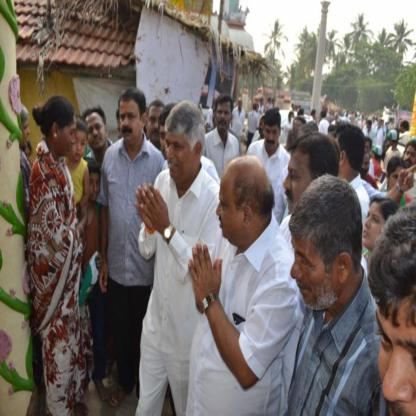face: (376, 299, 416, 416), (291, 234, 339, 306), (284, 155, 314, 211), (217, 178, 244, 237), (165, 131, 197, 178), (363, 204, 387, 244), (160, 125, 184, 164), (120, 106, 142, 140), (59, 118, 77, 157), (148, 111, 167, 142), (330, 142, 346, 178), (86, 121, 106, 148), (390, 168, 408, 197), (71, 131, 87, 161), (86, 174, 103, 202), (119, 122, 135, 150), (17, 118, 31, 148), (217, 105, 232, 130), (265, 127, 279, 153), (404, 145, 416, 170), (20, 149, 32, 170), (360, 157, 370, 176), (294, 124, 304, 142), (361, 144, 370, 159), (260, 120, 268, 134), (391, 134, 397, 146), (402, 127, 408, 133), (291, 115, 295, 123), (239, 102, 243, 108), (368, 123, 371, 129), (256, 105, 259, 111), (379, 121, 381, 126), (261, 100, 263, 104)
